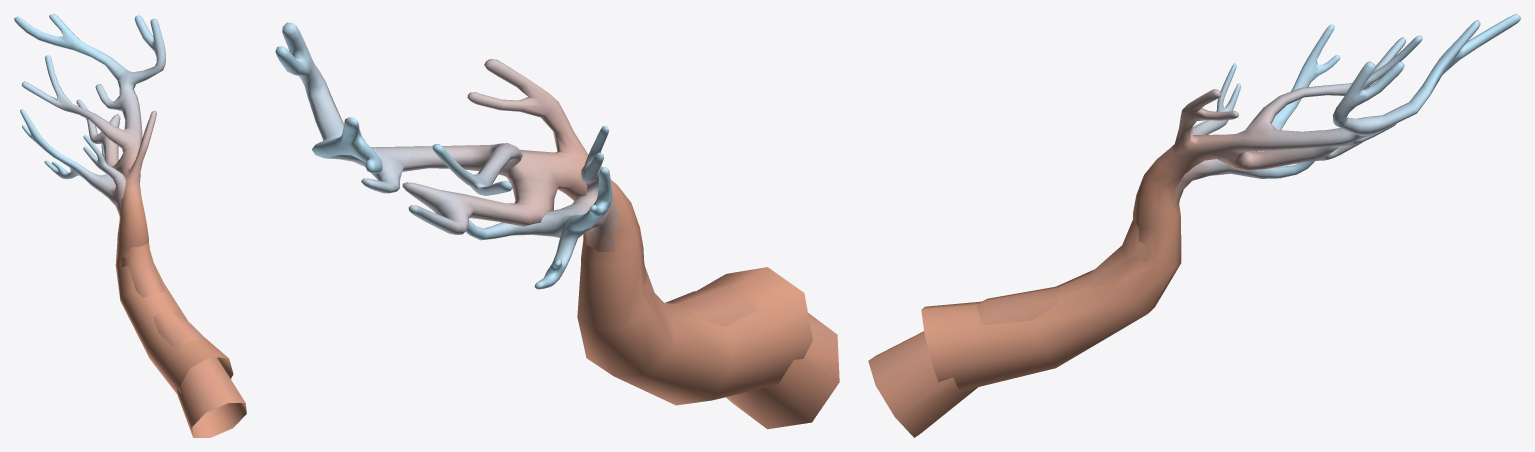
Rendered from Plants.fbx.
The picture shows the model from 3 angles, left to right: view 1: azimuth 30°, elevation 25°; view 2: azimuth 150°, elevation 25°; view 3: azimuth 270°, elevation 25°; orthographic projection. The views are drawn at different scales.
Visible parts, largest first — view 1: Cypress, Cypress_Small; view 2: Cypress, Cypress_Small; view 3: Cypress, Cypress_Small.
Boxes of the visible parts, x1,y1,x2,y2 form: Cypress: (14,14,233,394); Cypress_Small: (20,109,246,437); Cypress: (275,22,812,405); Cypress_Small: (465,126,839,429); Cypress: (921,14,1520,391); Cypress_Small: (868,24,1340,437).
Bounding box in the file's own units: 555 × 1016 × 1370.
